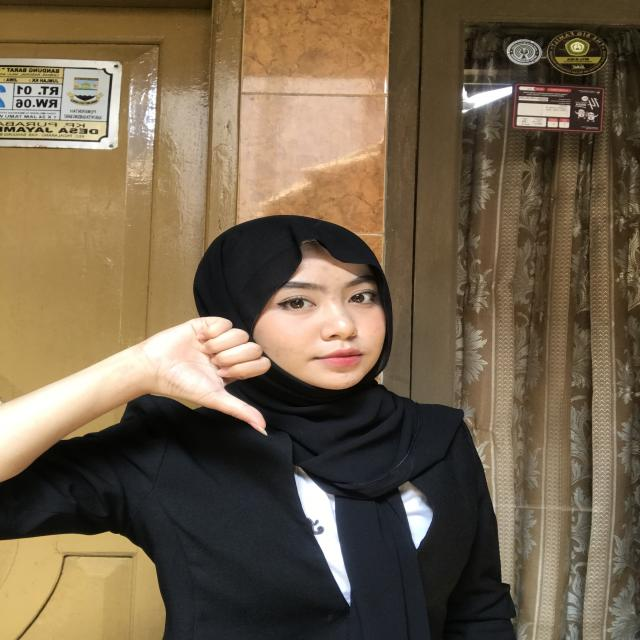sedih: (130, 284, 300, 437)
